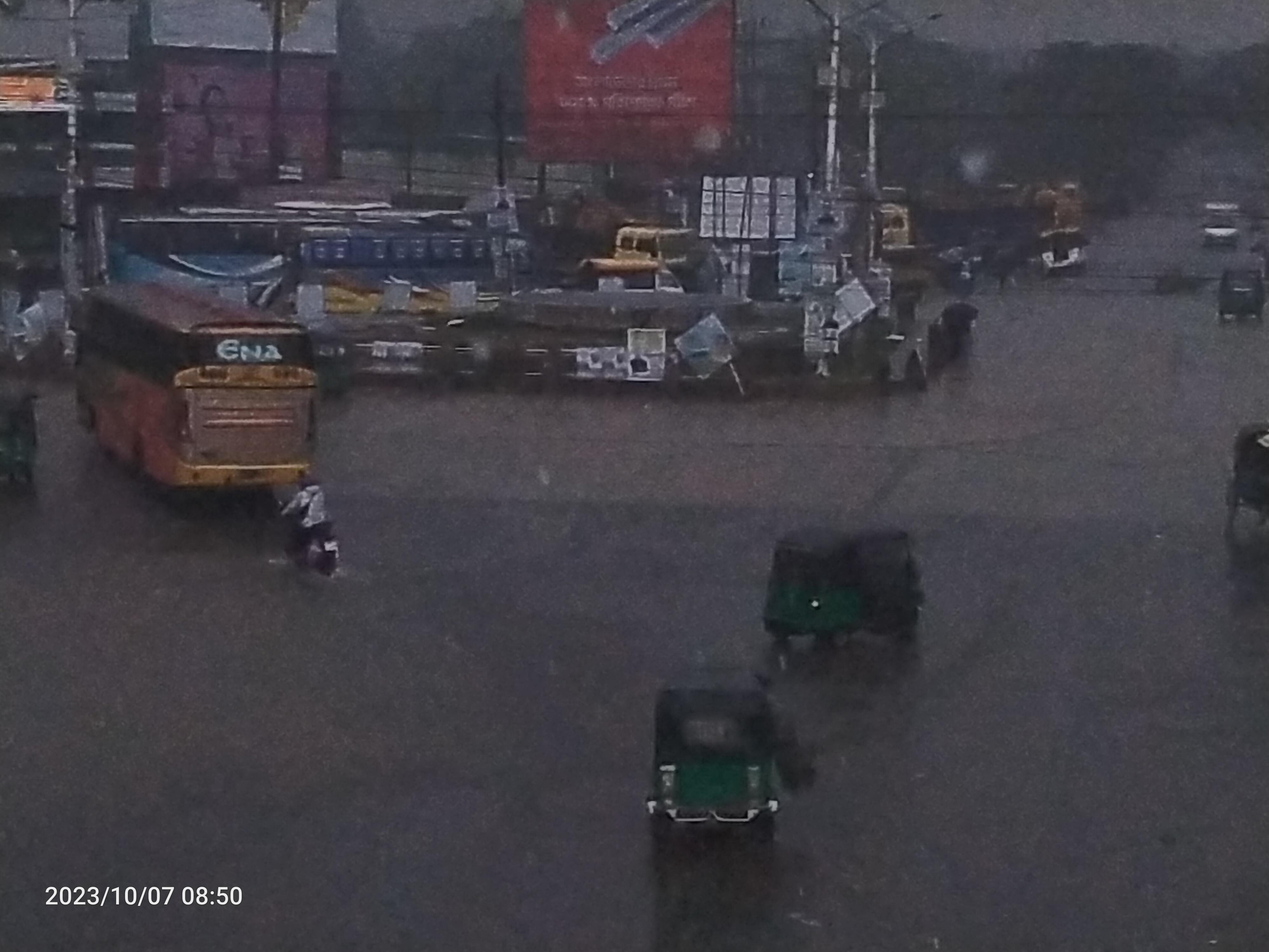Bike: (261, 447, 378, 592)
Bus: (50, 261, 341, 521), (53, 193, 347, 315), (273, 205, 517, 319)
Car: (1035, 222, 1112, 296), (1190, 187, 1263, 263)
Truck: (550, 201, 719, 303)
